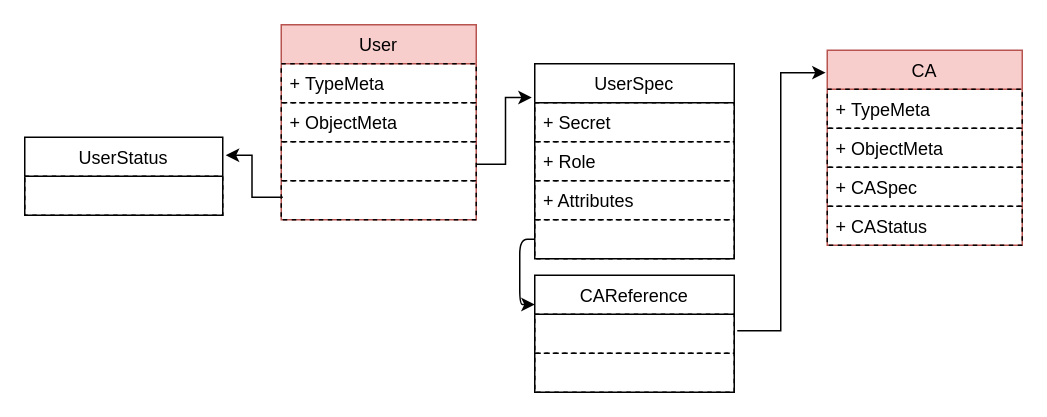
This 1047x417 diagram has some shape labels left out. Each missing label, with the centre of its shape:
"+ CA" goes at point 633,372.
"+ CAReference" goes at point 633,238.
"+ Condition" goes at point 123,195.
"+ Name" goes at point 633,333.
"+ UserSpec" goes at point 378,160.
"+ UserStatus" goes at point 378,199.
